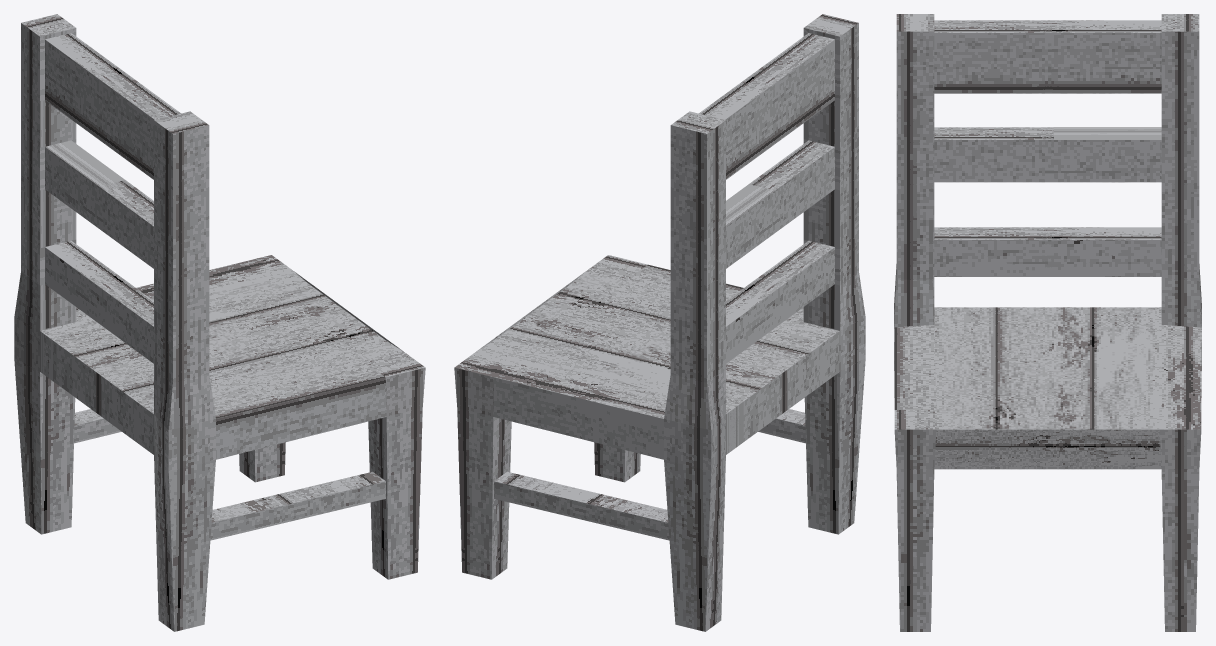
The model's file is chair.glb.
3 renders of one model, left to right at view 1: azimuth 30°, elevation 25°; view 2: azimuth 150°, elevation 25°; view 3: azimuth 270°, elevation 25°, orthographic.
Parts seen in each view (by area): view 1: chair; view 2: chair; view 3: chair.
Boxes of the visible parts, x1,y1,x2,y2 form: chair: (14, 14, 425, 631); chair: (454, 14, 865, 631); chair: (894, 14, 1201, 631).
Size of the model in its own units: 0.6863 by 1.27 by 0.7139.
Materials: 1 (1 with a texture image).
